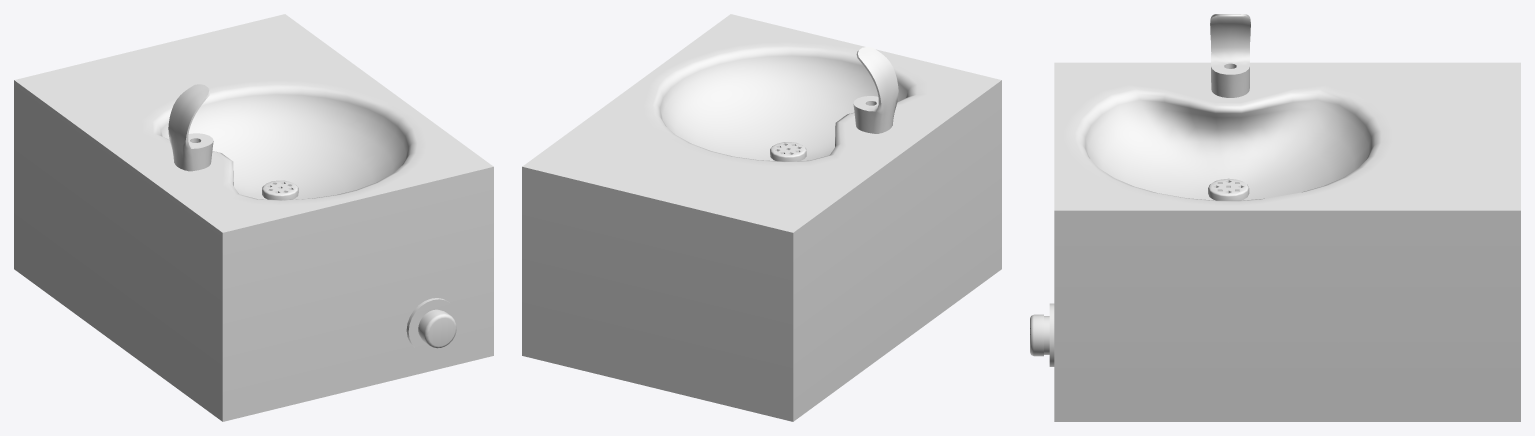
Rendered from drinking_fountain_wall_01.glb.
3 views of the same model, side by side, from view 1: azimuth 30°, elevation 25°; view 2: azimuth 150°, elevation 25°; view 3: azimuth 270°, elevation 25° (orthographic). The views are drawn at different scales.
Parts seen in each view (by area): view 1: drinking_fountain_wall_01; view 2: drinking_fountain_wall_01; view 3: drinking_fountain_wall_01.
Boxes of the visible parts, box(x1,y1,x2,y2) form: drinking_fountain_wall_01: box(14, 14, 493, 421); drinking_fountain_wall_01: box(522, 14, 1001, 421); drinking_fountain_wall_01: box(1030, 14, 1520, 421).
Bounding box in the file's own units: 0.3 × 0.2778 × 0.4207.
1 material, 1 textured.
